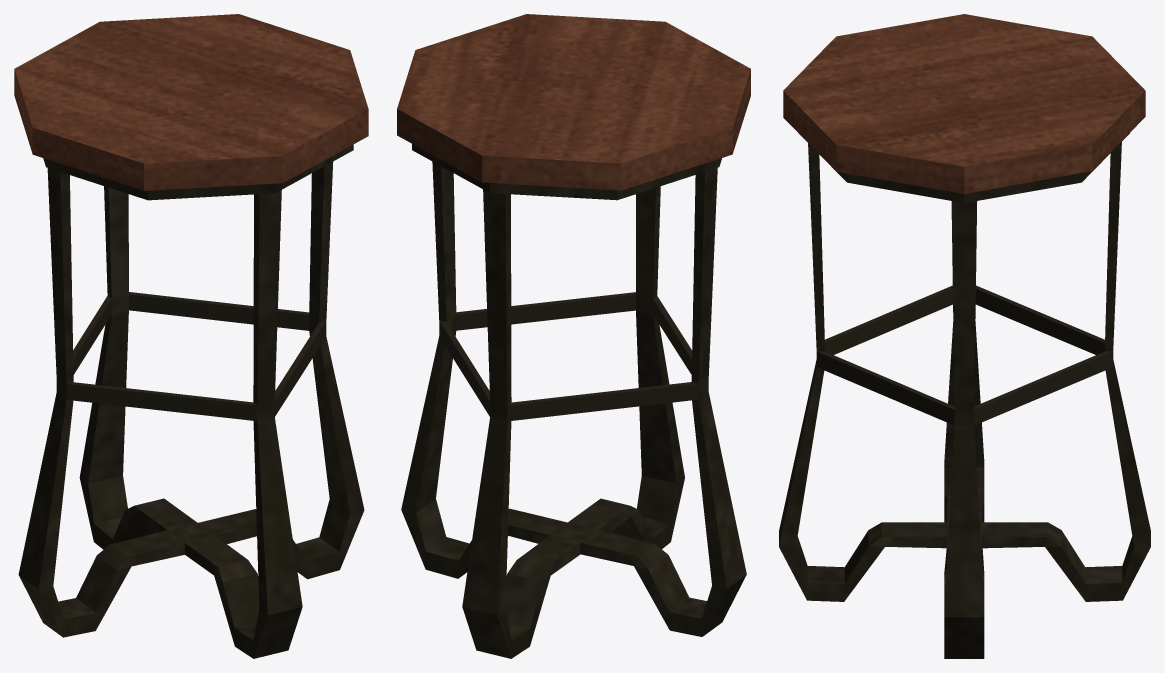
Rendered from OfficeChair.fbx.
The picture shows the model from 3 angles, left to right: view 1: azimuth 30°, elevation 25°; view 2: azimuth 150°, elevation 25°; view 3: azimuth 270°, elevation 25°; orthographic projection.
Parts seen in each view (by area): view 1: OfficeChair; view 2: OfficeChair; view 3: OfficeChair.
Part boxes in pixels (box(x1,y1,x2,y2)): OfficeChair: box(14, 14, 368, 658); OfficeChair: box(397, 14, 750, 658); OfficeChair: box(779, 14, 1150, 658).
Size of the model in its own units: 0.4238 by 0.6327 by 0.4238.
